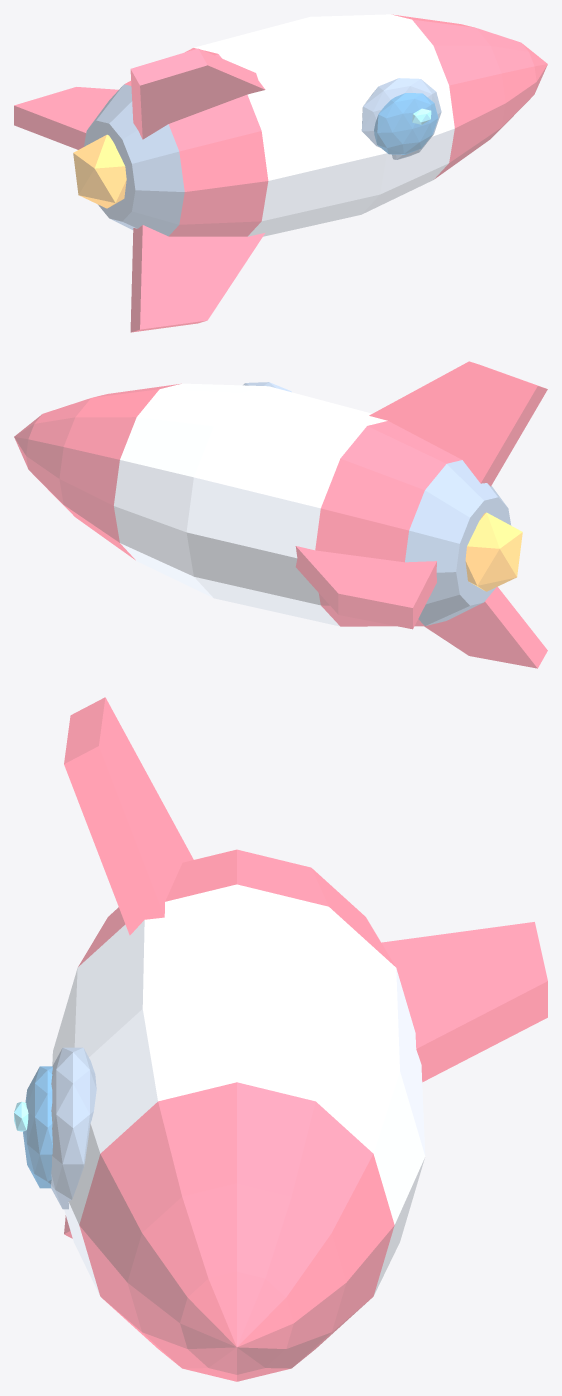
The model's file is orbit-rocket.glb.
3 views of the same model, one above another, from view 1: azimuth 30°, elevation 25°; view 2: azimuth 150°, elevation 25°; view 3: azimuth 270°, elevation 25° (orthographic). The views are drawn at different scales.
Visible parts, largest first — view 1: orbit-rocket; view 2: orbit-rocket; view 3: orbit-rocket.
Boxes of the visible parts, x1=… form: orbit-rocket: x1=14, y1=14, x2=547, y2=332; orbit-rocket: x1=14, y1=361, x2=547, y2=668; orbit-rocket: x1=14, y1=697, x2=547, y2=1381.
Bounding box in the file's own units: 2.28 × 1.28 × 1.22.
